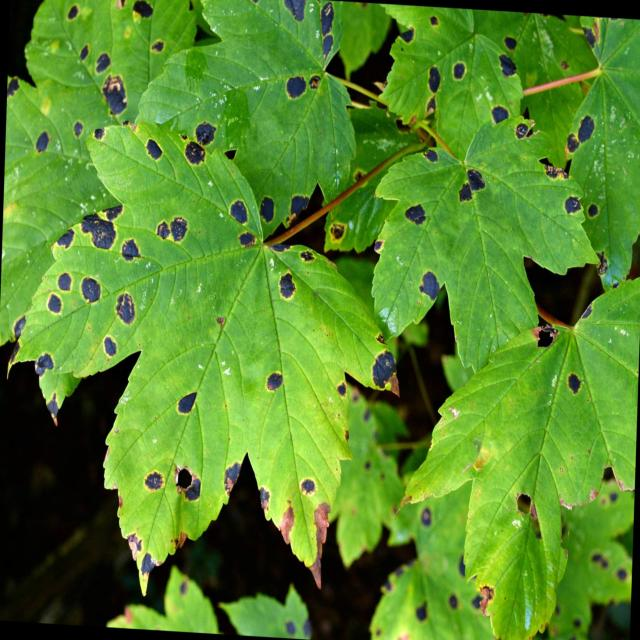Tar_Spot: (31, 13, 639, 640)
